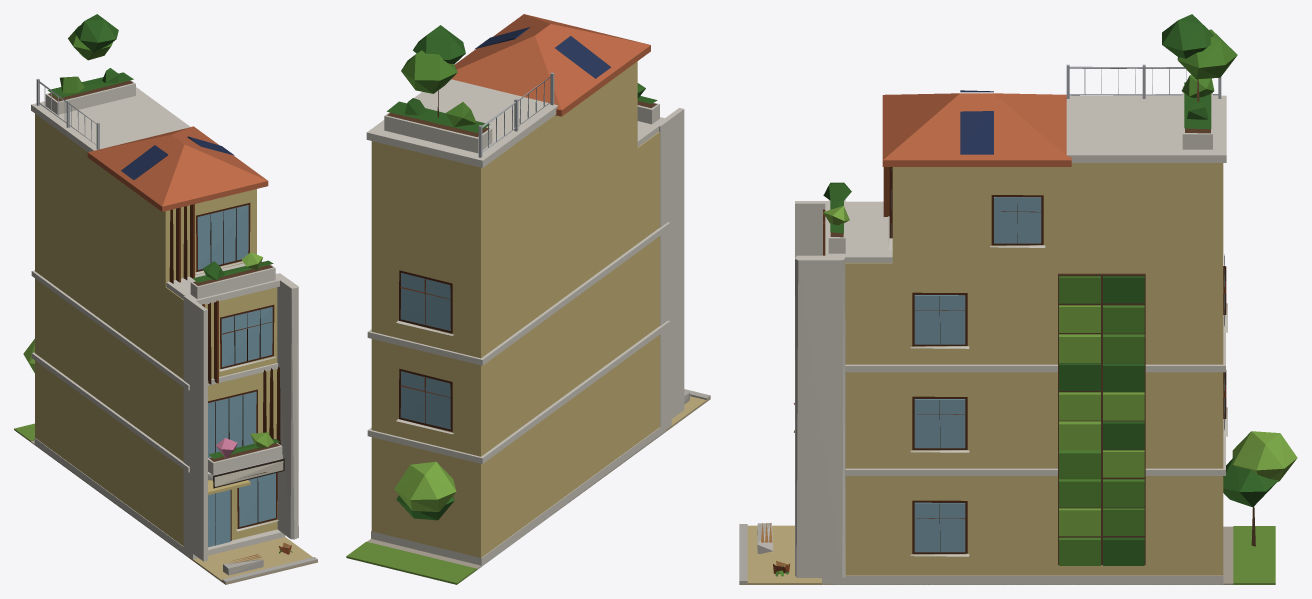
File: bay2_right.glb
The picture shows the model from 3 angles, left to right: view 1: azimuth 30°, elevation 25°; view 2: azimuth 150°, elevation 25°; view 3: azimuth 270°, elevation 25°; orthographic projection. The views are drawn at different scales.
Visible parts, largest first — view 1: body; view 2: body; view 3: body.
Boxes of the visible parts, x1,y1,x2,y2 form: body: (14, 14, 317, 584); body: (346, 14, 710, 584); body: (739, 14, 1297, 584).
Bounding box in the file's own units: 4.6 × 17.9 × 16.56.
